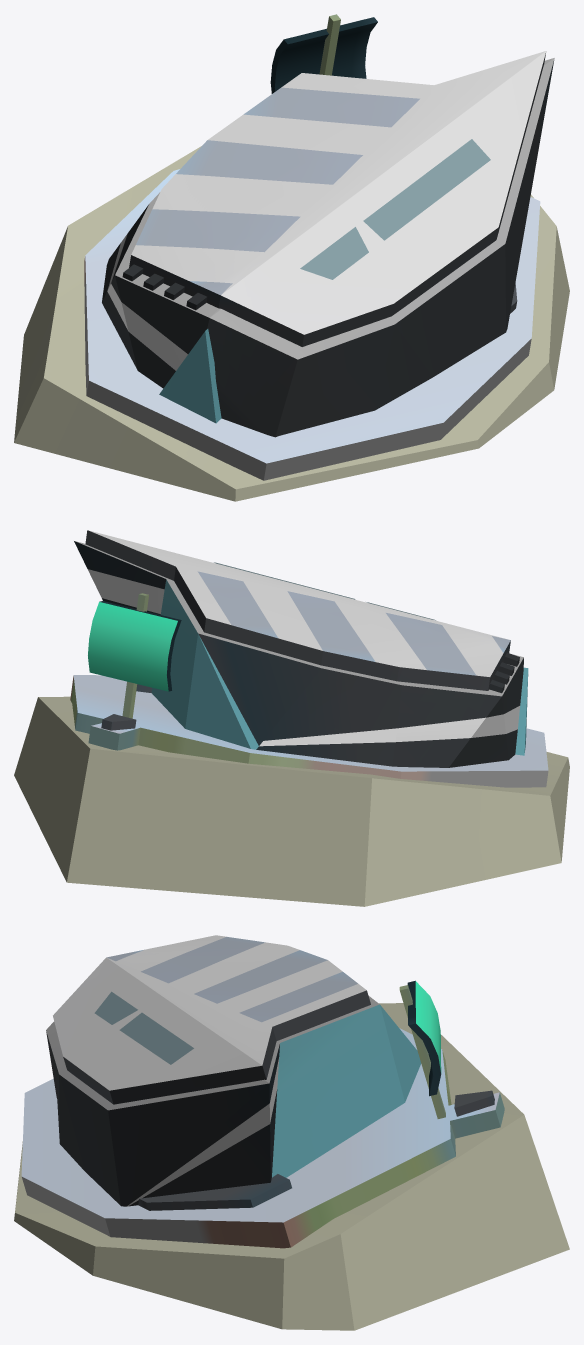
Rendered from MINNEAPOLIS_lv01.fbx.
3 renders of one model, top to bottom at view 1: azimuth 30°, elevation 25°; view 2: azimuth 150°, elevation 25°; view 3: azimuth 270°, elevation 25°, orthographic. The views are drawn at different scales.
Parts seen in each view (by area): view 1: MINNEAPOLIS_lv01; view 2: MINNEAPOLIS_lv01; view 3: MINNEAPOLIS_lv01.
Part boxes in pixels (x1,y1,x2,y2): MINNEAPOLIS_lv01: [14, 14, 569, 501]; MINNEAPOLIS_lv01: [14, 530, 569, 906]; MINNEAPOLIS_lv01: [14, 935, 569, 1330].
Bounding box in the file's own units: 8922 × 4003 × 7713.
